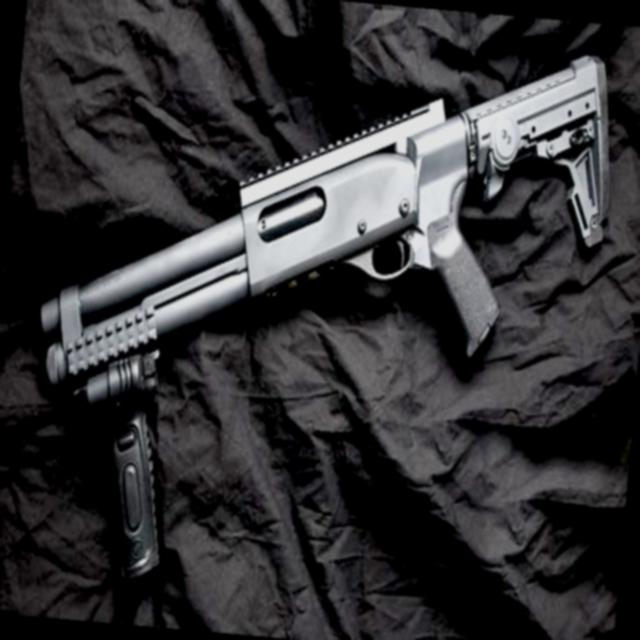shotgun: (16, 3, 622, 557)
